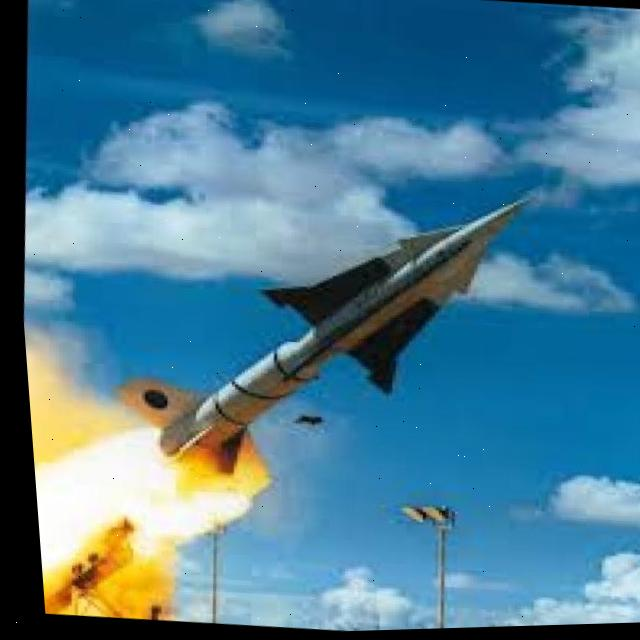missile: (84, 145, 571, 537)
